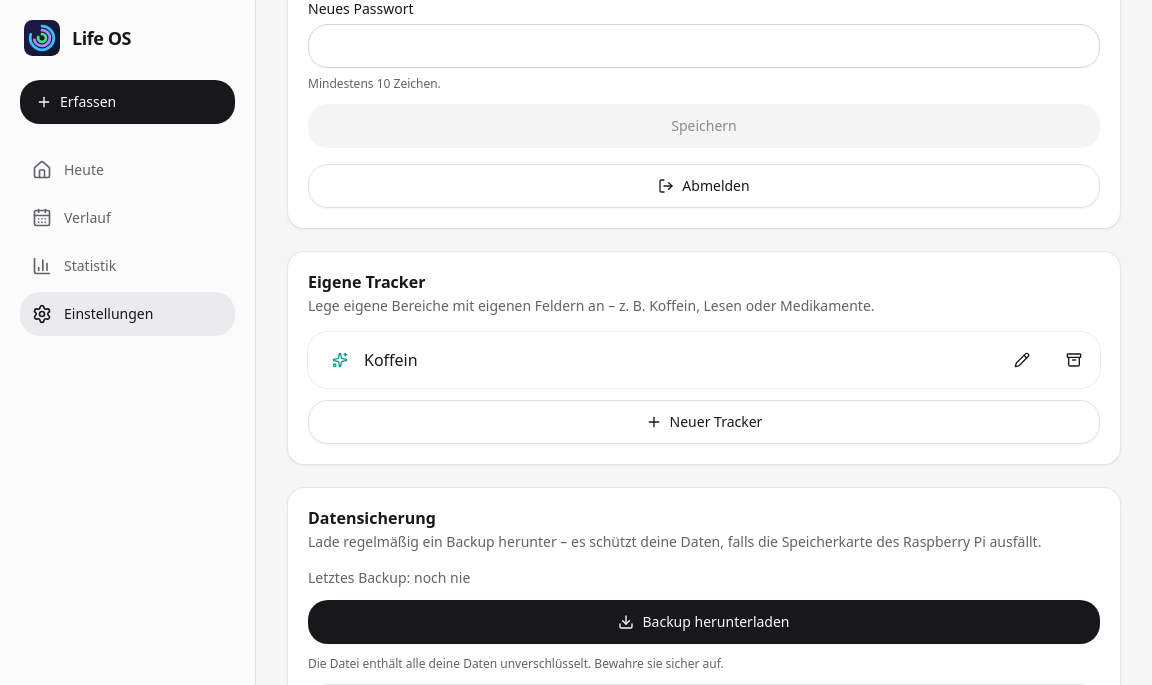
Test: custom trackers › locks type and primary value of existing fields when editing
(page scrolled)
Click the button named "Koffein Bearbeiten": (1022, 360) [1000,338,1044,382]
(page scrolled)
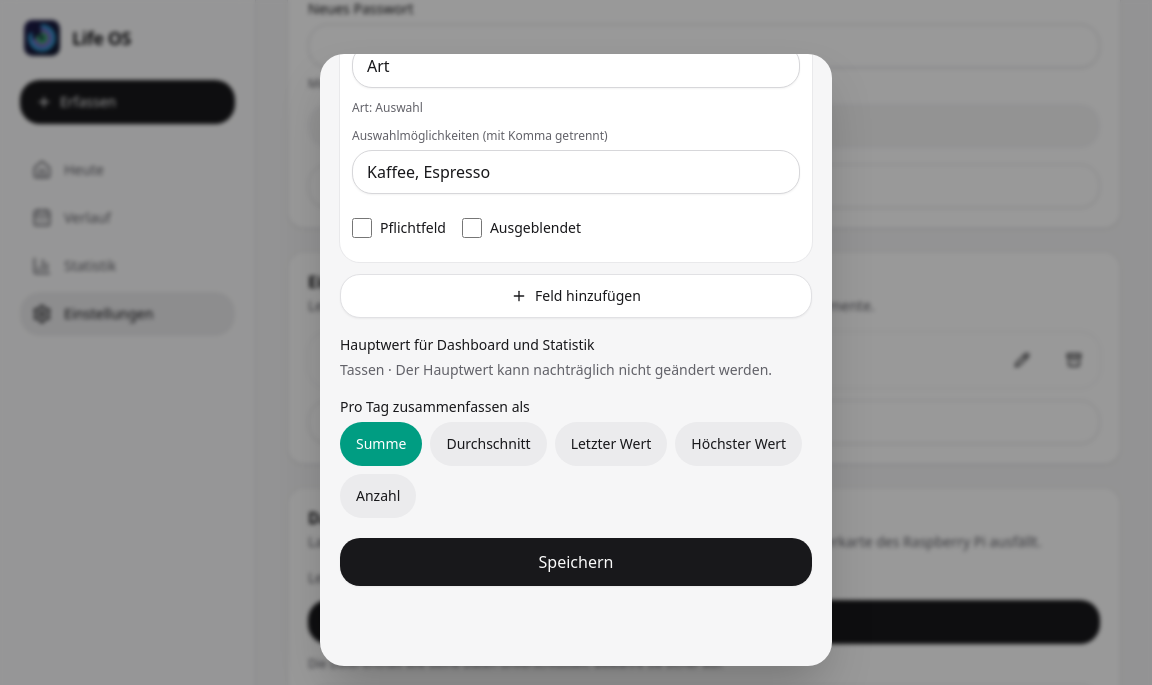
Now the text "Der Hauptwert kann nachträglich nicht geändert werden" is shown, box [396,360,772,379]
Now the number of checkboxes labelled "Ausgeblendet" is 2
